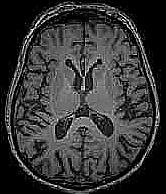Normal_Brain: (1, 1, 163, 194)
